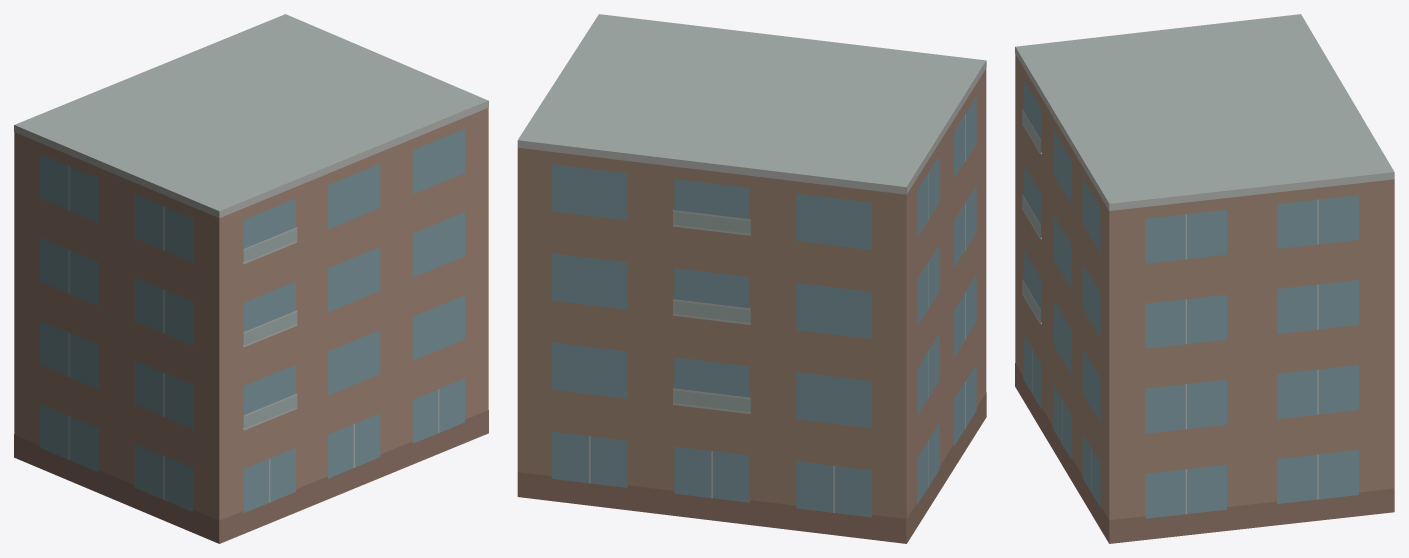
File: survey-upis-32972788.glb
3 views of the same model, side by side, from view 1: azimuth 30°, elevation 25°; view 2: azimuth 150°, elevation 25°; view 3: azimuth 270°, elevation 25° (orthographic). The views are drawn at different scales.
Parts seen in each view (by area): view 1: survey-upis-32972788.tmp; view 2: survey-upis-32972788.tmp; view 3: survey-upis-32972788.tmp.
Boxes of the visible parts, x1,y1,x2,y2 form: survey-upis-32972788.tmp: [14, 14, 488, 543]; survey-upis-32972788.tmp: [517, 14, 986, 543]; survey-upis-32972788.tmp: [1015, 14, 1394, 543].
Bounding box in the file's own units: 13.97 × 11.65 × 11.79.
